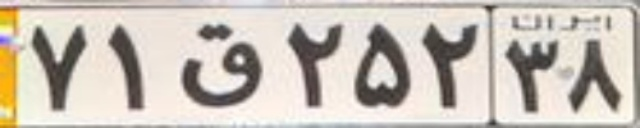1: (105, 23, 146, 110)
2: (418, 19, 483, 109), (287, 21, 344, 108)
3: (501, 38, 560, 112)
5: (351, 21, 412, 107)
7: (27, 26, 87, 110)
8: (565, 38, 626, 113)
ghaf: (177, 22, 263, 108)
